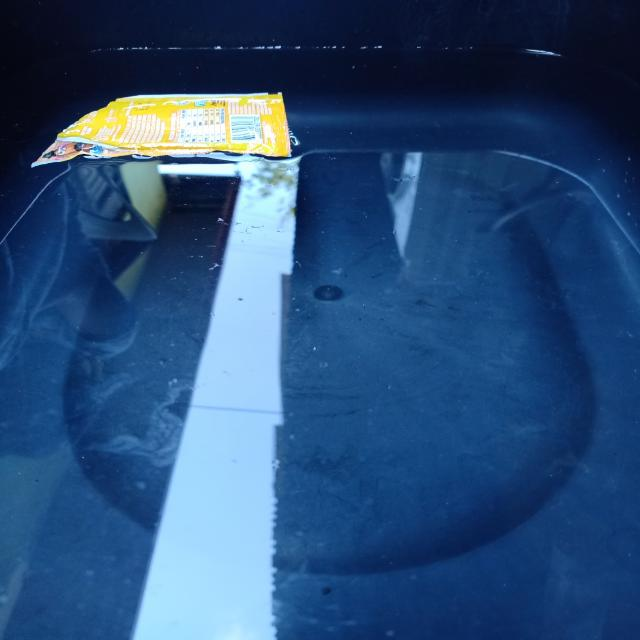Plastic Wrapper: (34, 93, 291, 165)
